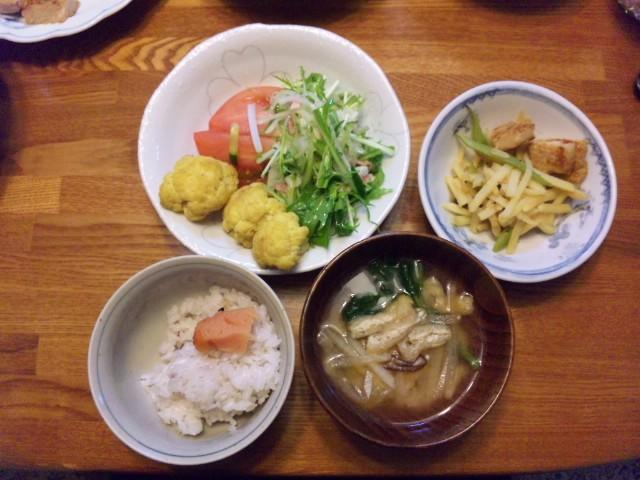plate: (137, 24, 409, 274)
rice: (140, 287, 280, 434)
